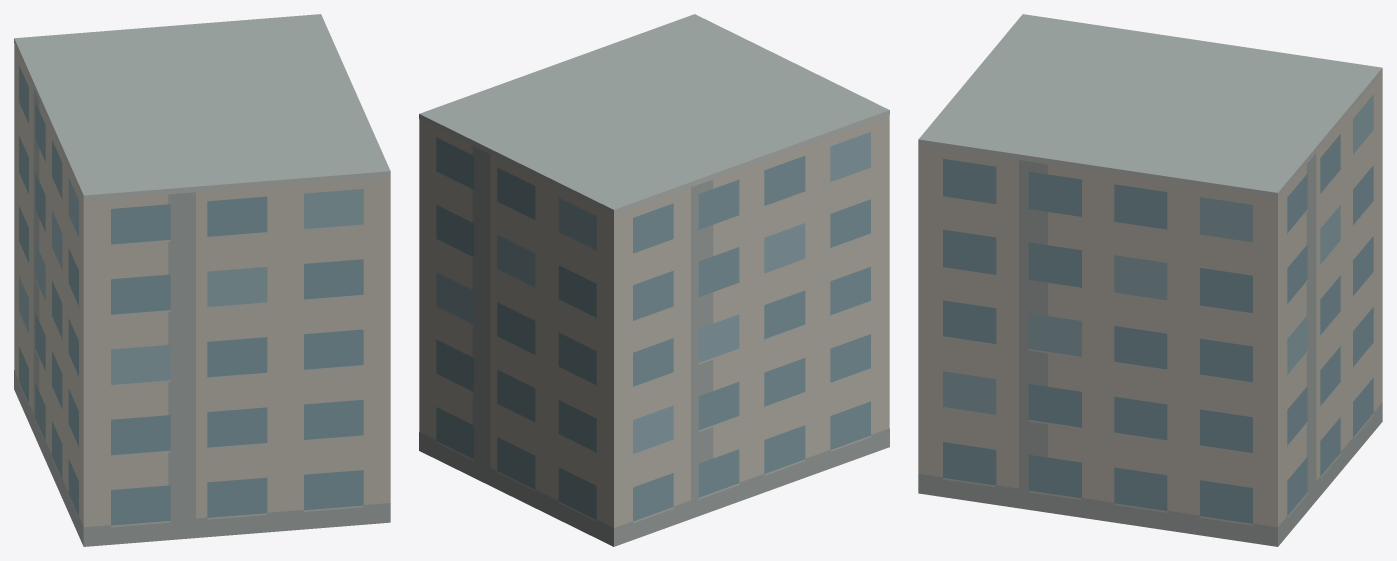
Rendered from residential-a1bb81b7-df73-4821-b3ed-ba499e3b2329.glb.
3 renders of one model, left to right at view 1: azimuth 30°, elevation 25°; view 2: azimuth 150°, elevation 25°; view 3: azimuth 270°, elevation 25°, orthographic. The views are drawn at different scales.
Visible parts, largest first — view 1: residential-a1bb81b7-df73-4821-b3ed-ba499e3b2329.tmp; view 2: residential-a1bb81b7-df73-4821-b3ed-ba499e3b2329.tmp; view 3: residential-a1bb81b7-df73-4821-b3ed-ba499e3b2329.tmp.
Part boxes in pixels (x1,y1,x2,y2): residential-a1bb81b7-df73-4821-b3ed-ba499e3b2329.tmp: (14,14,390,546); residential-a1bb81b7-df73-4821-b3ed-ba499e3b2329.tmp: (419,14,889,546); residential-a1bb81b7-df73-4821-b3ed-ba499e3b2329.tmp: (918,14,1382,546).
Size of the model in its own units: 16.54 by 15.25 by 18.13.
